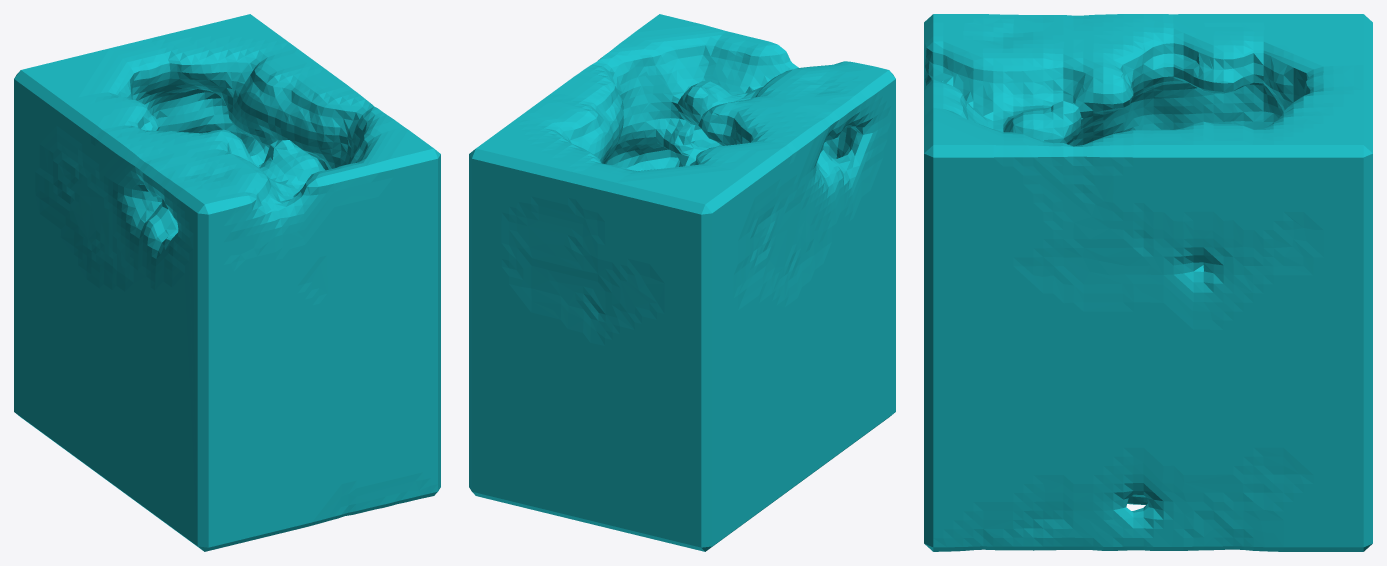
The picture shows the model from 3 angles, left to right: view 1: azimuth 30°, elevation 25°; view 2: azimuth 150°, elevation 25°; view 3: azimuth 270°, elevation 25°; orthographic projection. The views are drawn at different scales.
Parts seen in each view (by area): view 1: Liquid_Domain; view 2: Liquid_Domain; view 3: Liquid_Domain.
Boxes of the visible parts, x1,y1,x2,y2 form: Liquid_Domain: [14, 14, 440, 551]; Liquid_Domain: [469, 14, 895, 551]; Liquid_Domain: [924, 14, 1372, 551].
Size of the model in its own units: 79.09 by 108 by 108.
